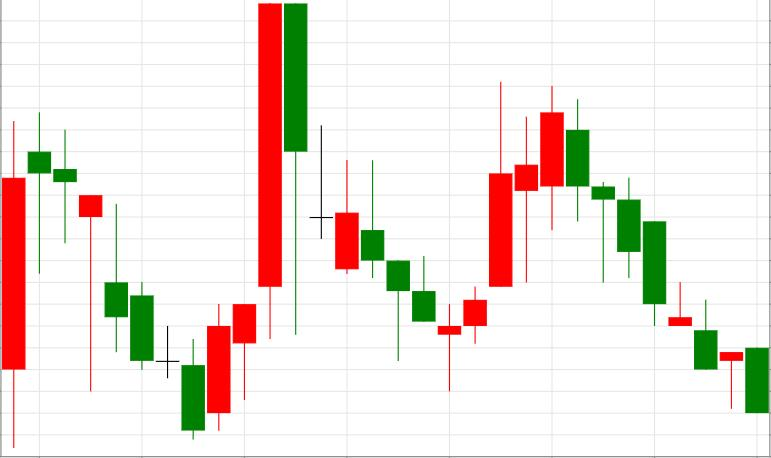morning_star_rise: (284, 3, 486, 390)
